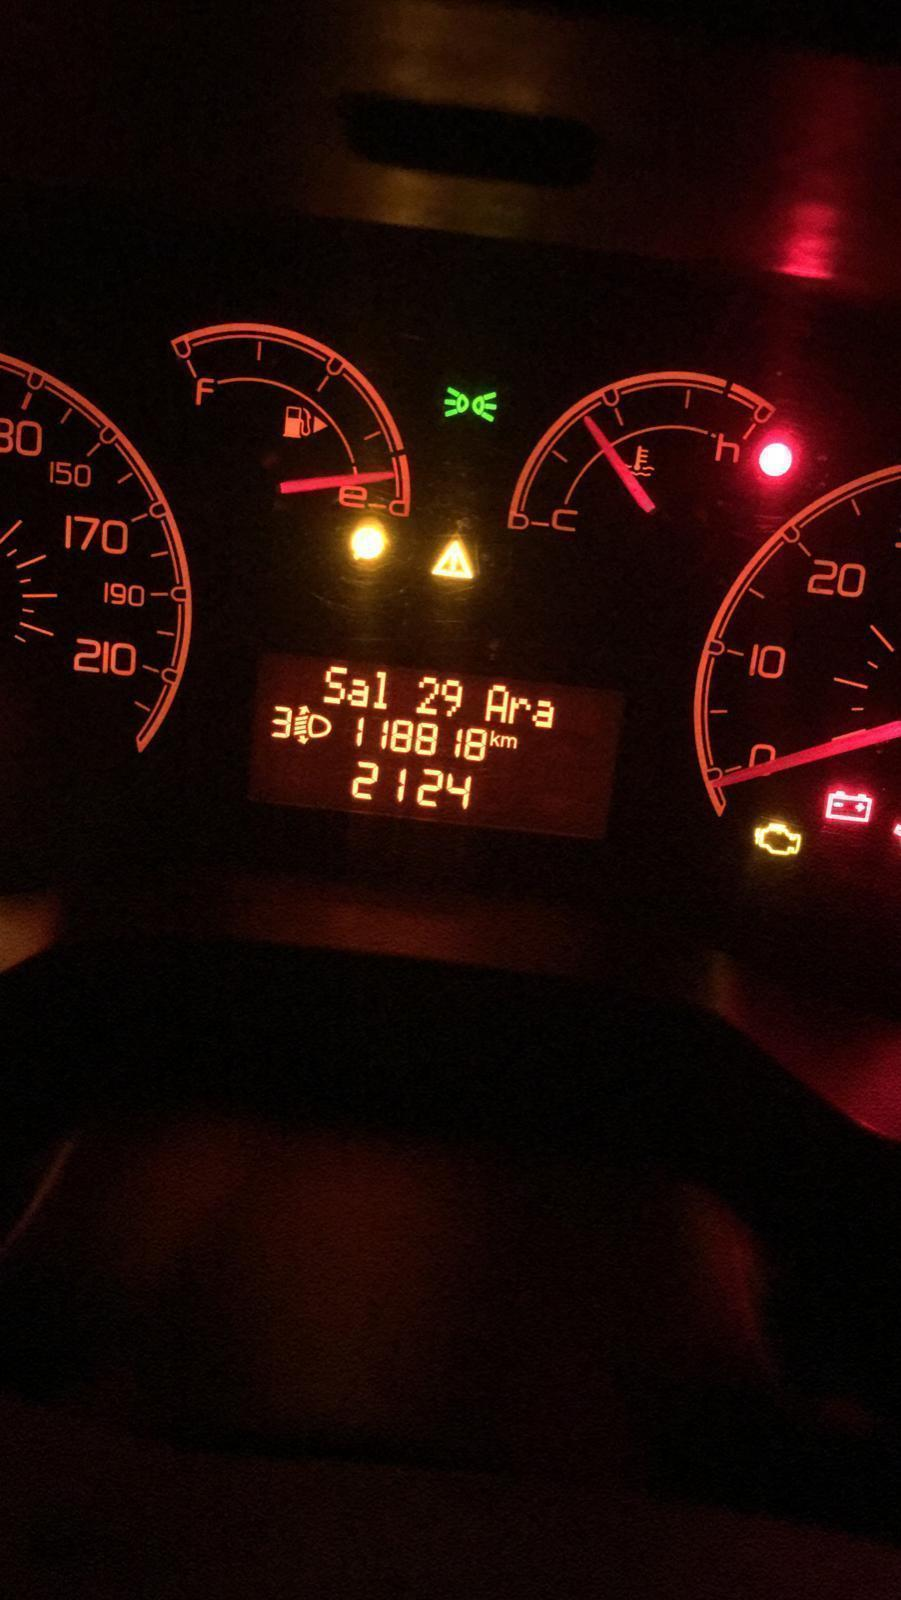1: (393, 765, 407, 802), (353, 714, 366, 748), (378, 718, 389, 751), (452, 725, 461, 759)
2: (351, 758, 380, 802), (416, 765, 444, 808), (415, 673, 440, 718)
3: (268, 704, 292, 740)
4: (446, 771, 472, 810)
8: (464, 724, 487, 763), (390, 718, 413, 754), (416, 720, 438, 756)
9: (442, 676, 464, 718)
X: (321, 662, 345, 705), (485, 681, 509, 723), (508, 692, 532, 726), (375, 666, 391, 712), (533, 697, 556, 729), (347, 677, 368, 709), (501, 732, 520, 751), (488, 727, 502, 749)
odometer: (244, 653, 632, 846)
